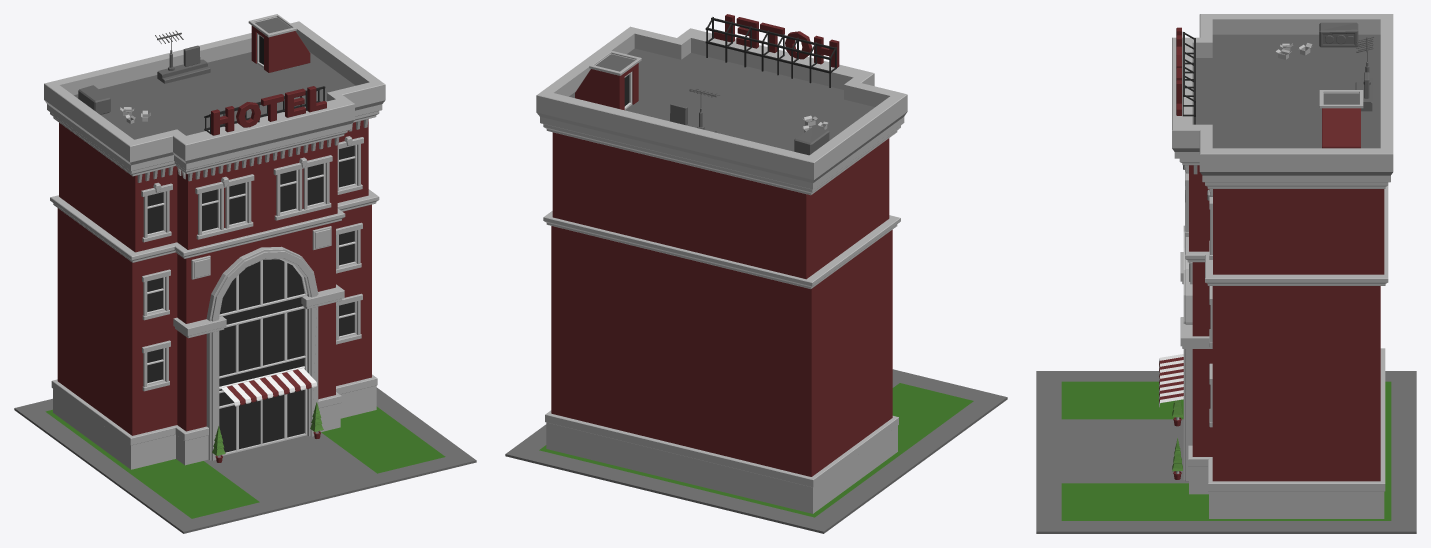
The model's file is hotel.glb.
3 renders of one model, left to right at view 1: azimuth 30°, elevation 25°; view 2: azimuth 150°, elevation 25°; view 3: azimuth 270°, elevation 25°, orthographic. The views are drawn at different scales.
Parts seen in each view (by area): view 1: hotel_b; view 2: hotel_b; view 3: hotel_b.
Part boxes in pixels (bbox=[...]): hotel_b: bbox=[14, 14, 476, 533]; hotel_b: bbox=[505, 14, 1007, 533]; hotel_b: bbox=[1036, 14, 1416, 533].
Size of the model in its own units: 15 by 17.57 by 15.
1 material, 1 textured.
